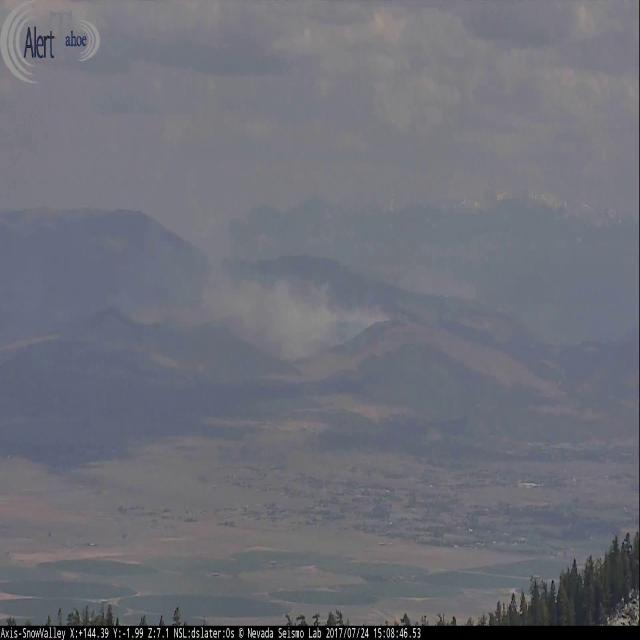smoke: (110, 197, 393, 360)
